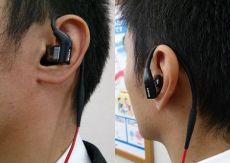earphone: (37, 14, 92, 83)
